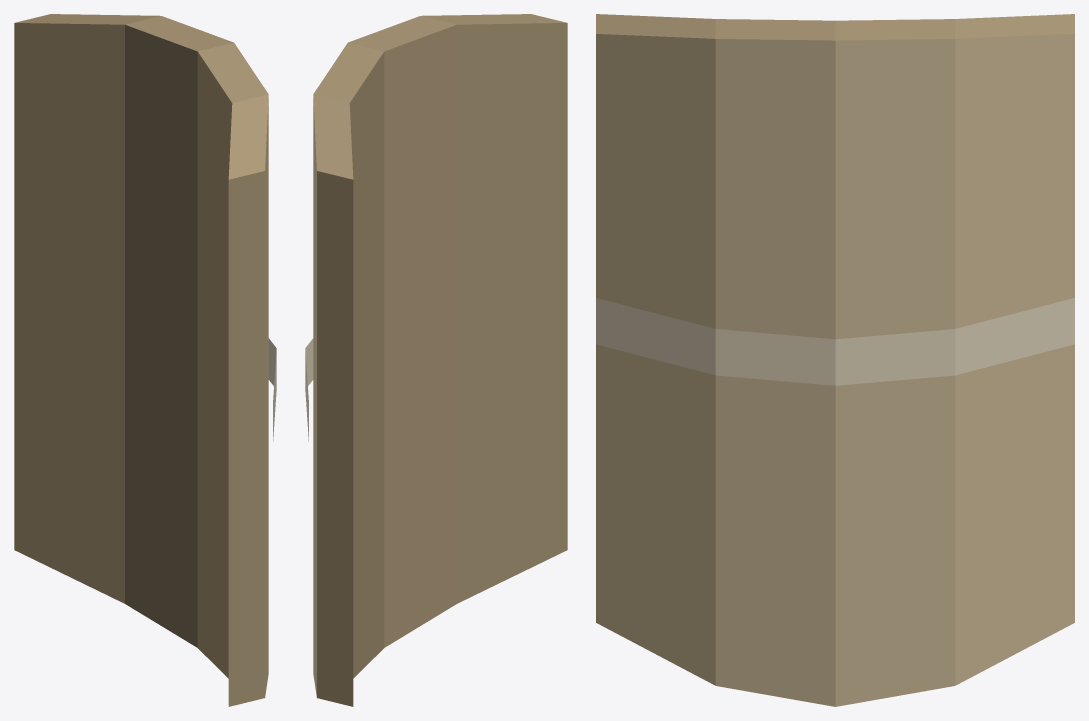
File: gear_sqshield_v1.glb
3 renders of one model, left to right at view 1: azimuth 30°, elevation 25°; view 2: azimuth 150°, elevation 25°; view 3: azimuth 270°, elevation 25°, orthographic. The views are drawn at different scales.
Visible parts, largest first — view 1: gear_sqshield; view 2: gear_sqshield; view 3: gear_sqshield.
Boxes of the visible parts, x1,y1,x2,y2 form: gear_sqshield: (14,14,276,706); gear_sqshield: (305,14,567,706); gear_sqshield: (596,14,1074,706).
Bounding box in the file's own units: 0.182 × 0.86 × 0.56.
